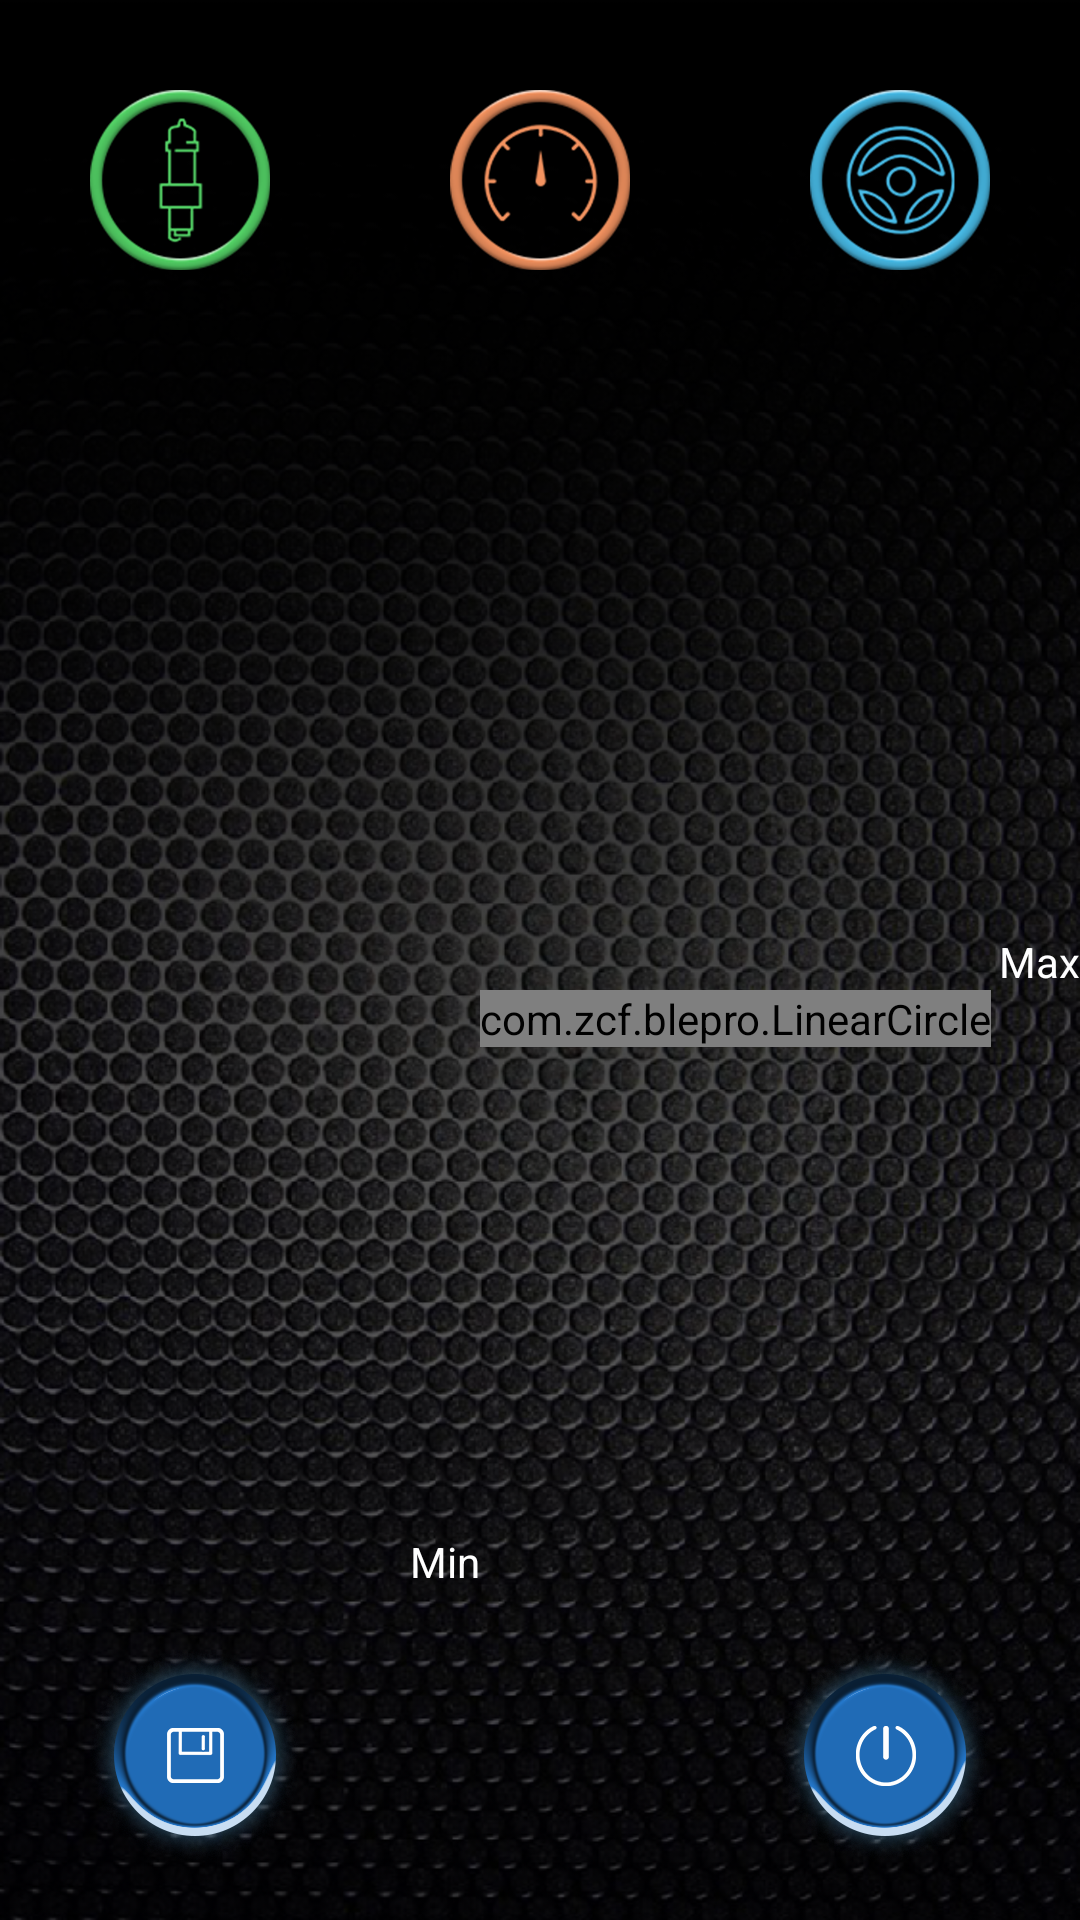

Icon bounding boxes for this 1080px x 1920px phone screenshot, format (x1, y1, x2, y2):
home daishu: (450, 90, 630, 270)
home dianhuo: (90, 90, 270, 270)
home jiashi: (810, 90, 990, 270)
home kaiguan: (787, 1658, 990, 1846)
home save: (97, 1657, 300, 1847)
